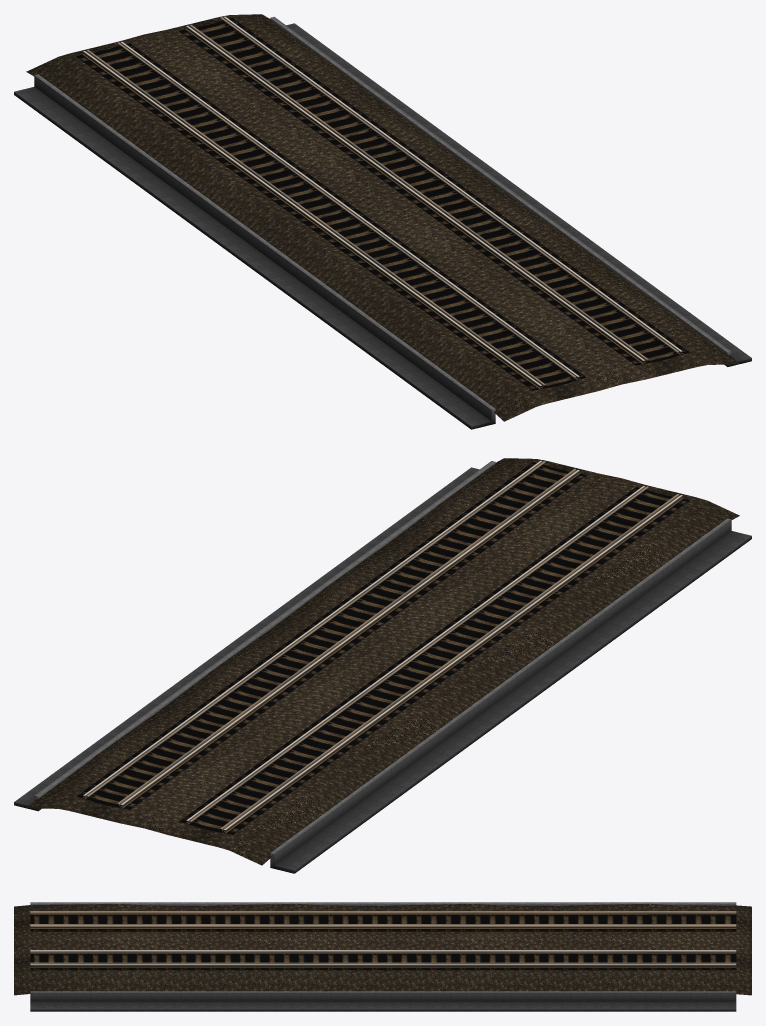
The model's file is KIN_2RAIL_100.glb.
The picture shows the model from 3 angles, top to bottom: view 1: azimuth 30°, elevation 25°; view 2: azimuth 150°, elevation 25°; view 3: azimuth 270°, elevation 25°; orthographic projection. The views are drawn at different scales.
Parts seen in each view (by area): view 1: Jari_All, R000_RG_R, R000_RG_L; view 2: Jari_All, R000_RG_R, R000_RG_L; view 3: Jari_All, R000_RG_L, R000_RG_R.
Boxes of the visible parts, x1=… form: Jari_All: x1=14, y1=14, x2=751, y2=429; R000_RG_R: x1=86, y1=24, x2=648, y2=386; R000_RG_L: x1=117, y1=17, x2=678, y2=377; Jari_All: x1=14, y1=458, x2=751, y2=873; R000_RG_R: x1=117, y1=468, x2=679, y2=830; R000_RG_L: x1=86, y1=461, x2=648, y2=822; Jari_All: x1=14, y1=902, x2=751, y2=1011; R000_RG_L: x1=30, y1=924, x2=736, y2=964; R000_RG_R: x1=30, y1=912, x2=736, y2=952.
Size of the model in its own units: 35.42 by 3.35 by 105.
7 materials, 6 textured.
